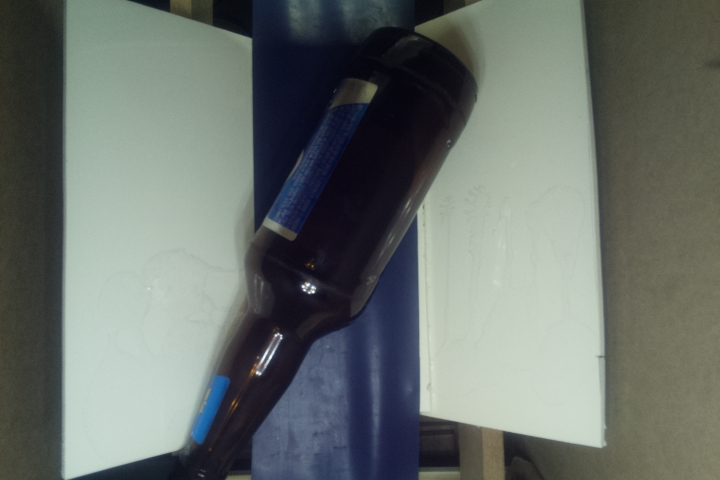makju: (174, 26, 480, 480)
